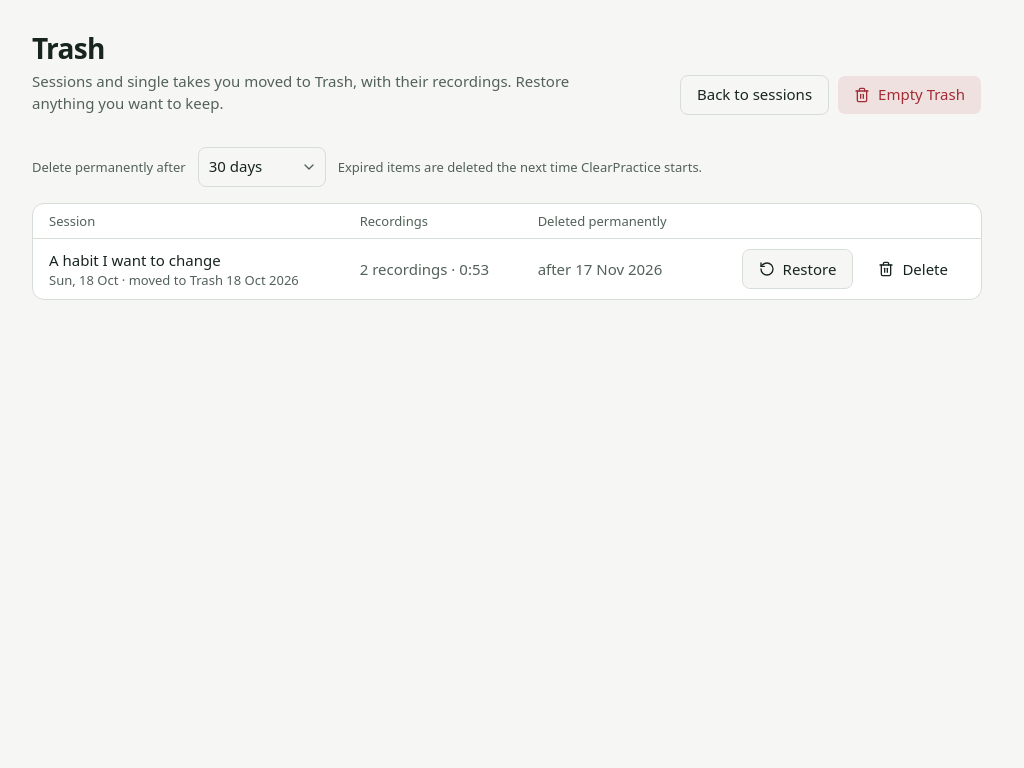
Trash › deletes permanently only after confirmation and keeps the item when deletion fails
Click the button "Delete": x=913, y=269 [861, 249, 965, 289]
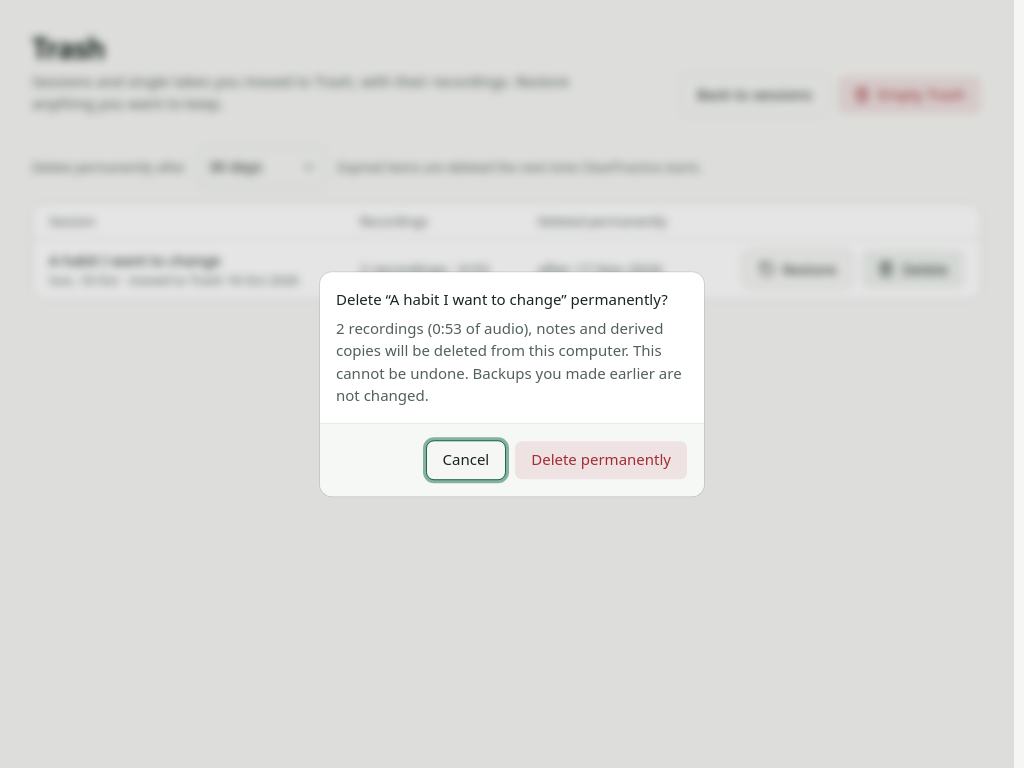
Now the dialog shows "cannot be undone", box [336, 318, 682, 405]
Click the button "Delete permanently": x=601, y=460 [514, 440, 688, 480]
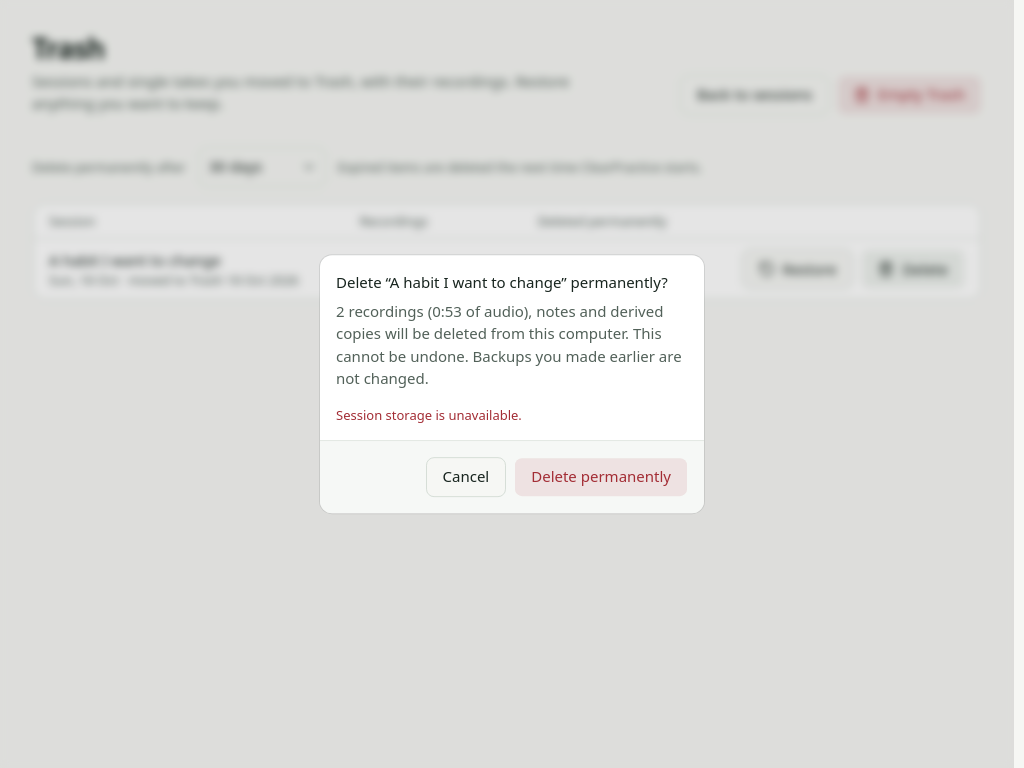
Now the message reads "Session storage is unavailable.", box [336, 406, 522, 424]
Click the button "Cancel": x=466, y=477 [426, 457, 506, 497]
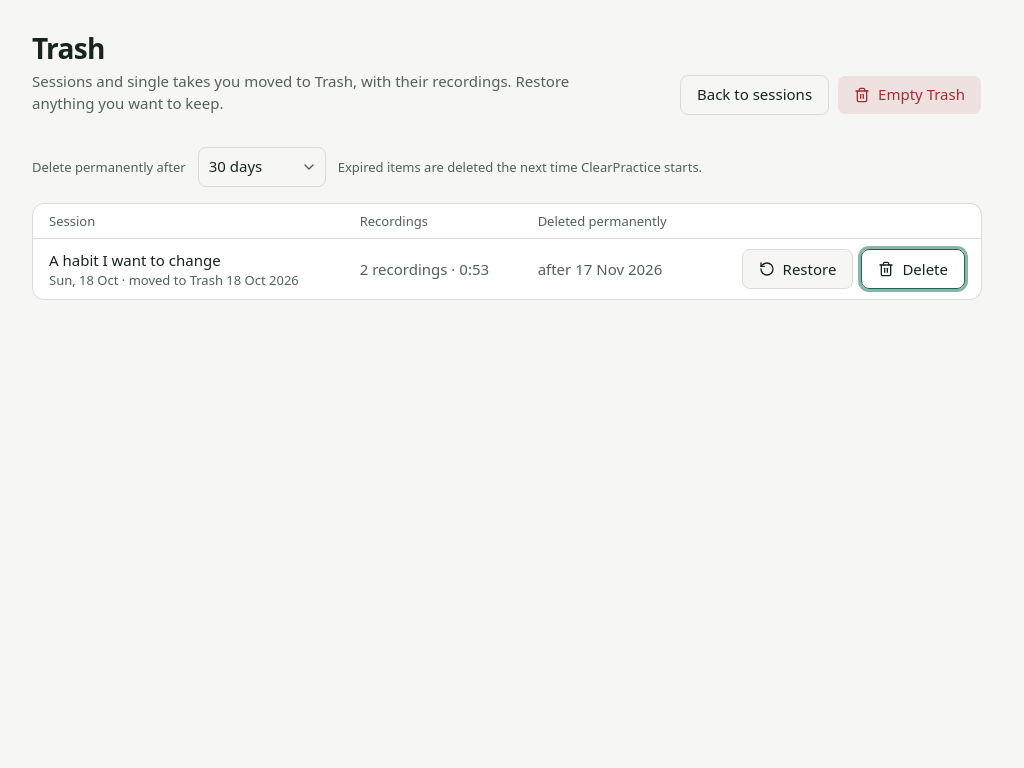
Expected: the text "A habit I want to change" is shown, [49, 250, 221, 270]
Click the button "Delete": x=913, y=269 [861, 249, 965, 289]
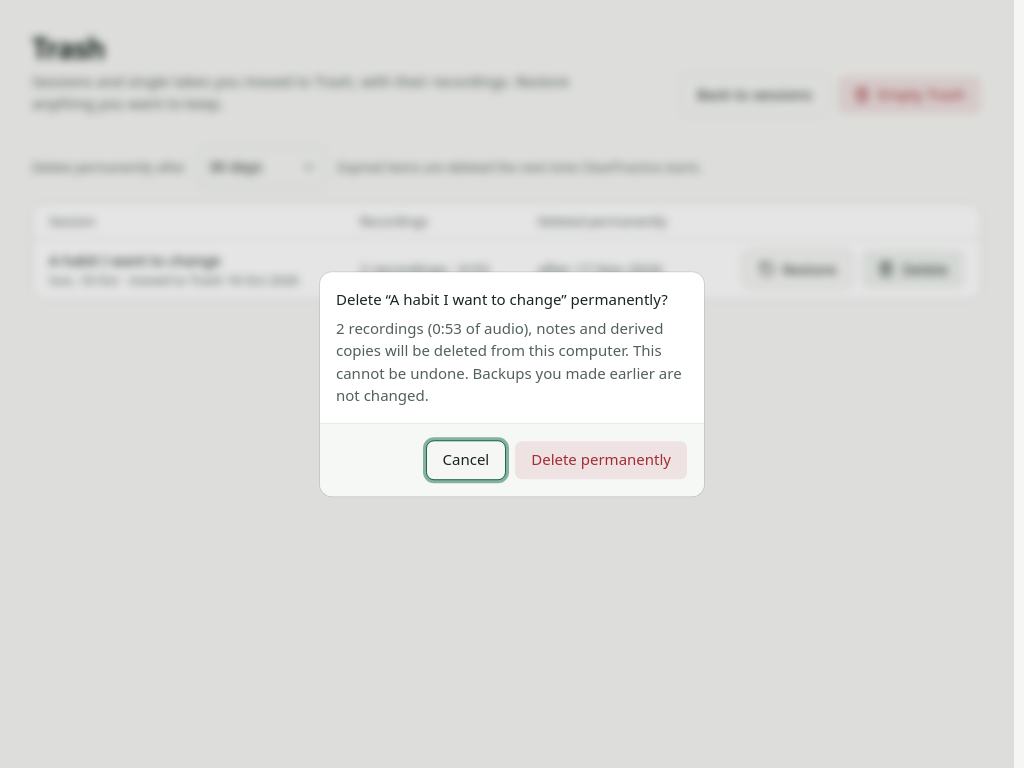
Click the button "Delete permanently": x=601, y=460 [514, 440, 688, 480]
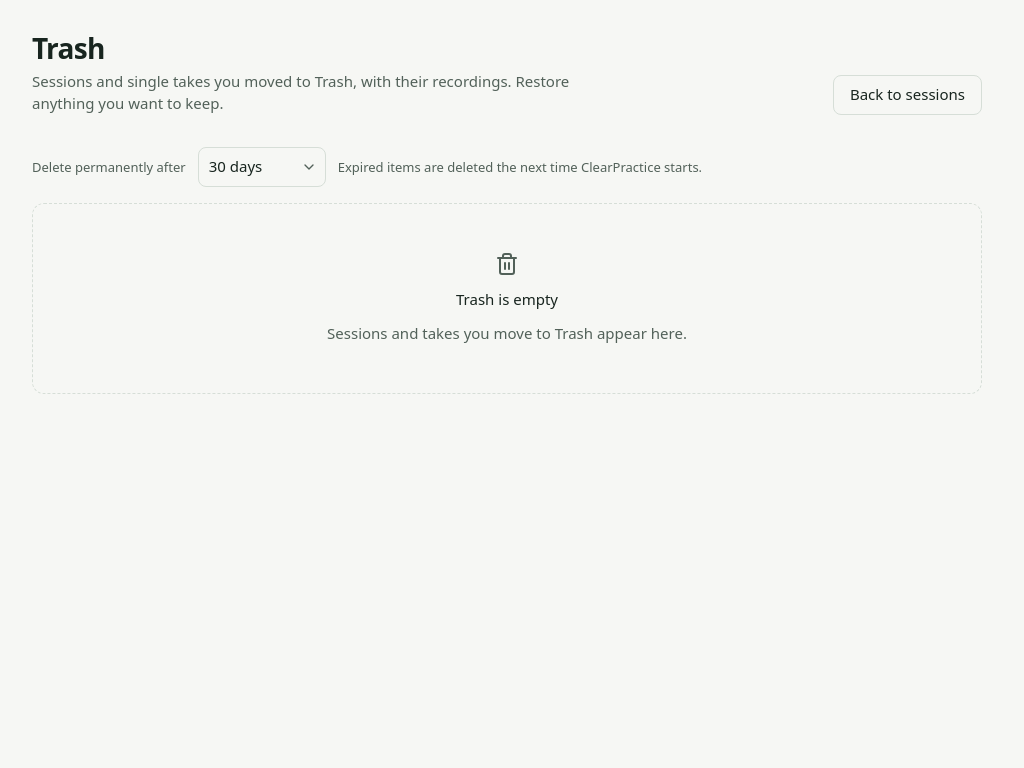
Now the text "Trash is empty" is shown, box [456, 288, 558, 310]
